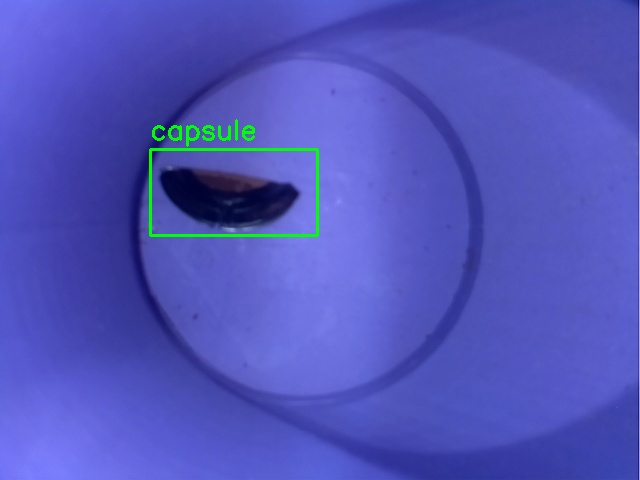capsule: (150, 149, 317, 235)
